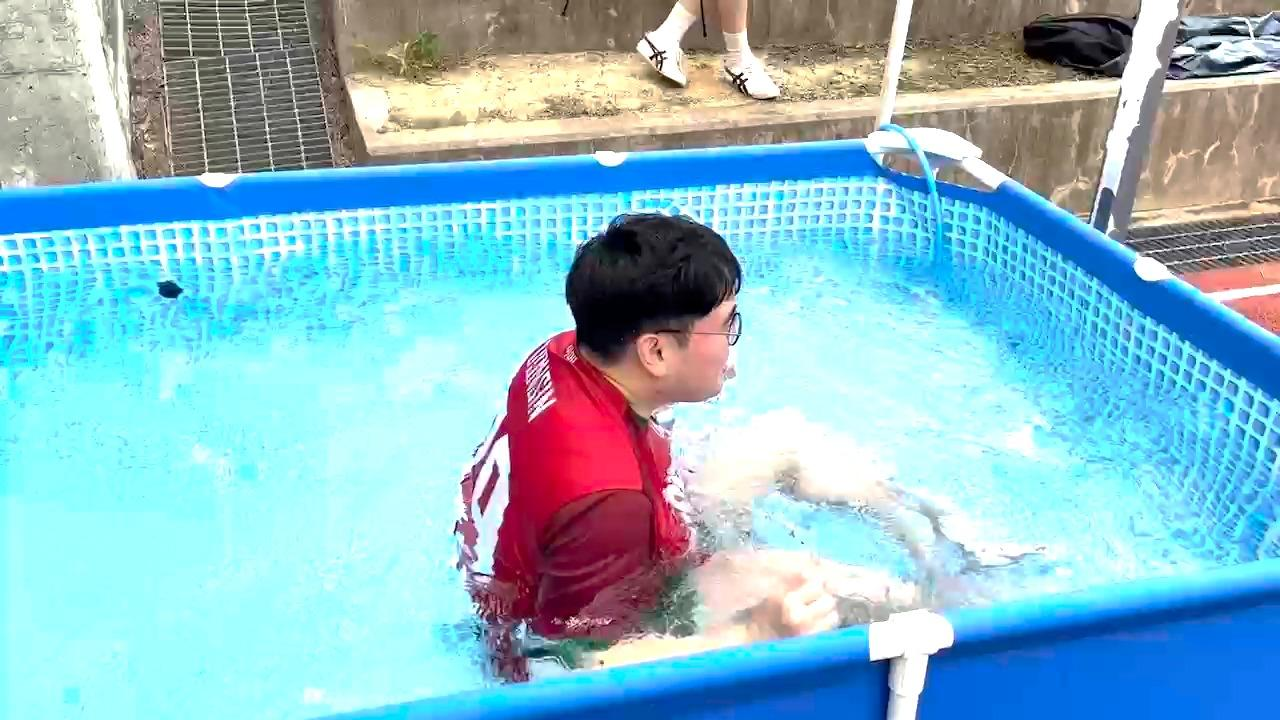Swimming: (403, 165, 992, 709)
